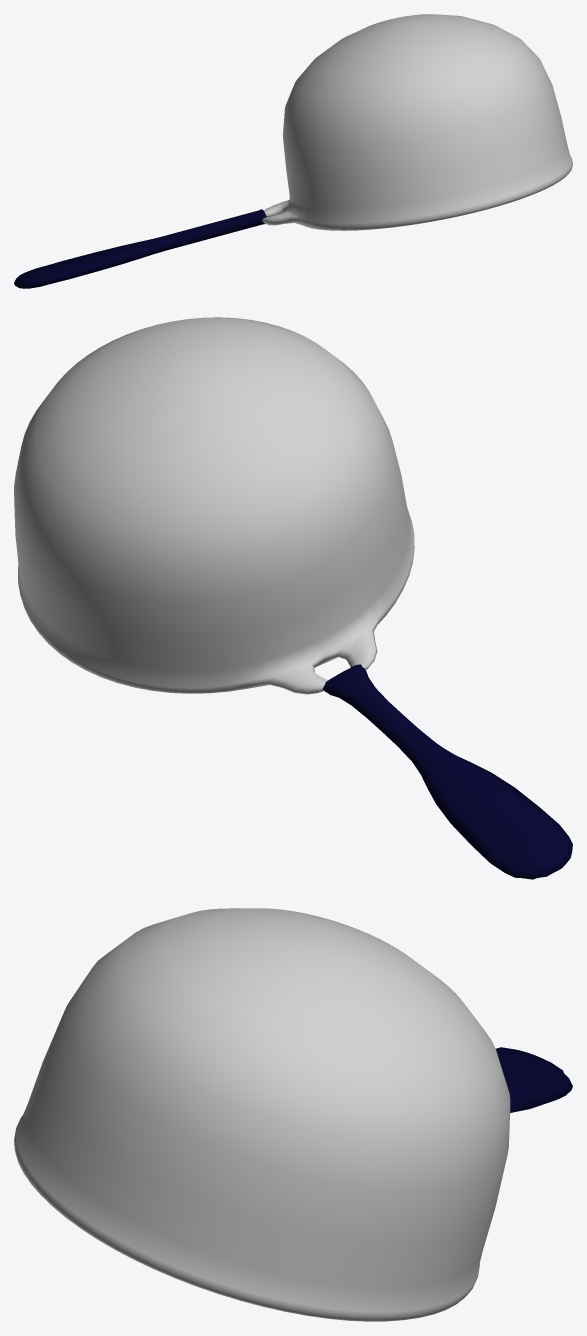
The model's file is pot.fbx.
3 views of the same model, one above another, from view 1: azimuth 30°, elevation 25°; view 2: azimuth 150°, elevation 25°; view 3: azimuth 270°, elevation 25° (orthographic). The views are drawn at different scales.
Visible parts, largest first — view 1: Pot.001; view 2: Pot.001; view 3: Pot.001.
Boxes of the visible parts, left/top/right/bottom form: Pot.001: left=14, top=14, right=572, bottom=288; Pot.001: left=14, top=317, right=572, bottom=879; Pot.001: left=14, top=908, right=572, bottom=1321.
Size of the model in its own units: 65.28 by 33.05 by 40.76.
